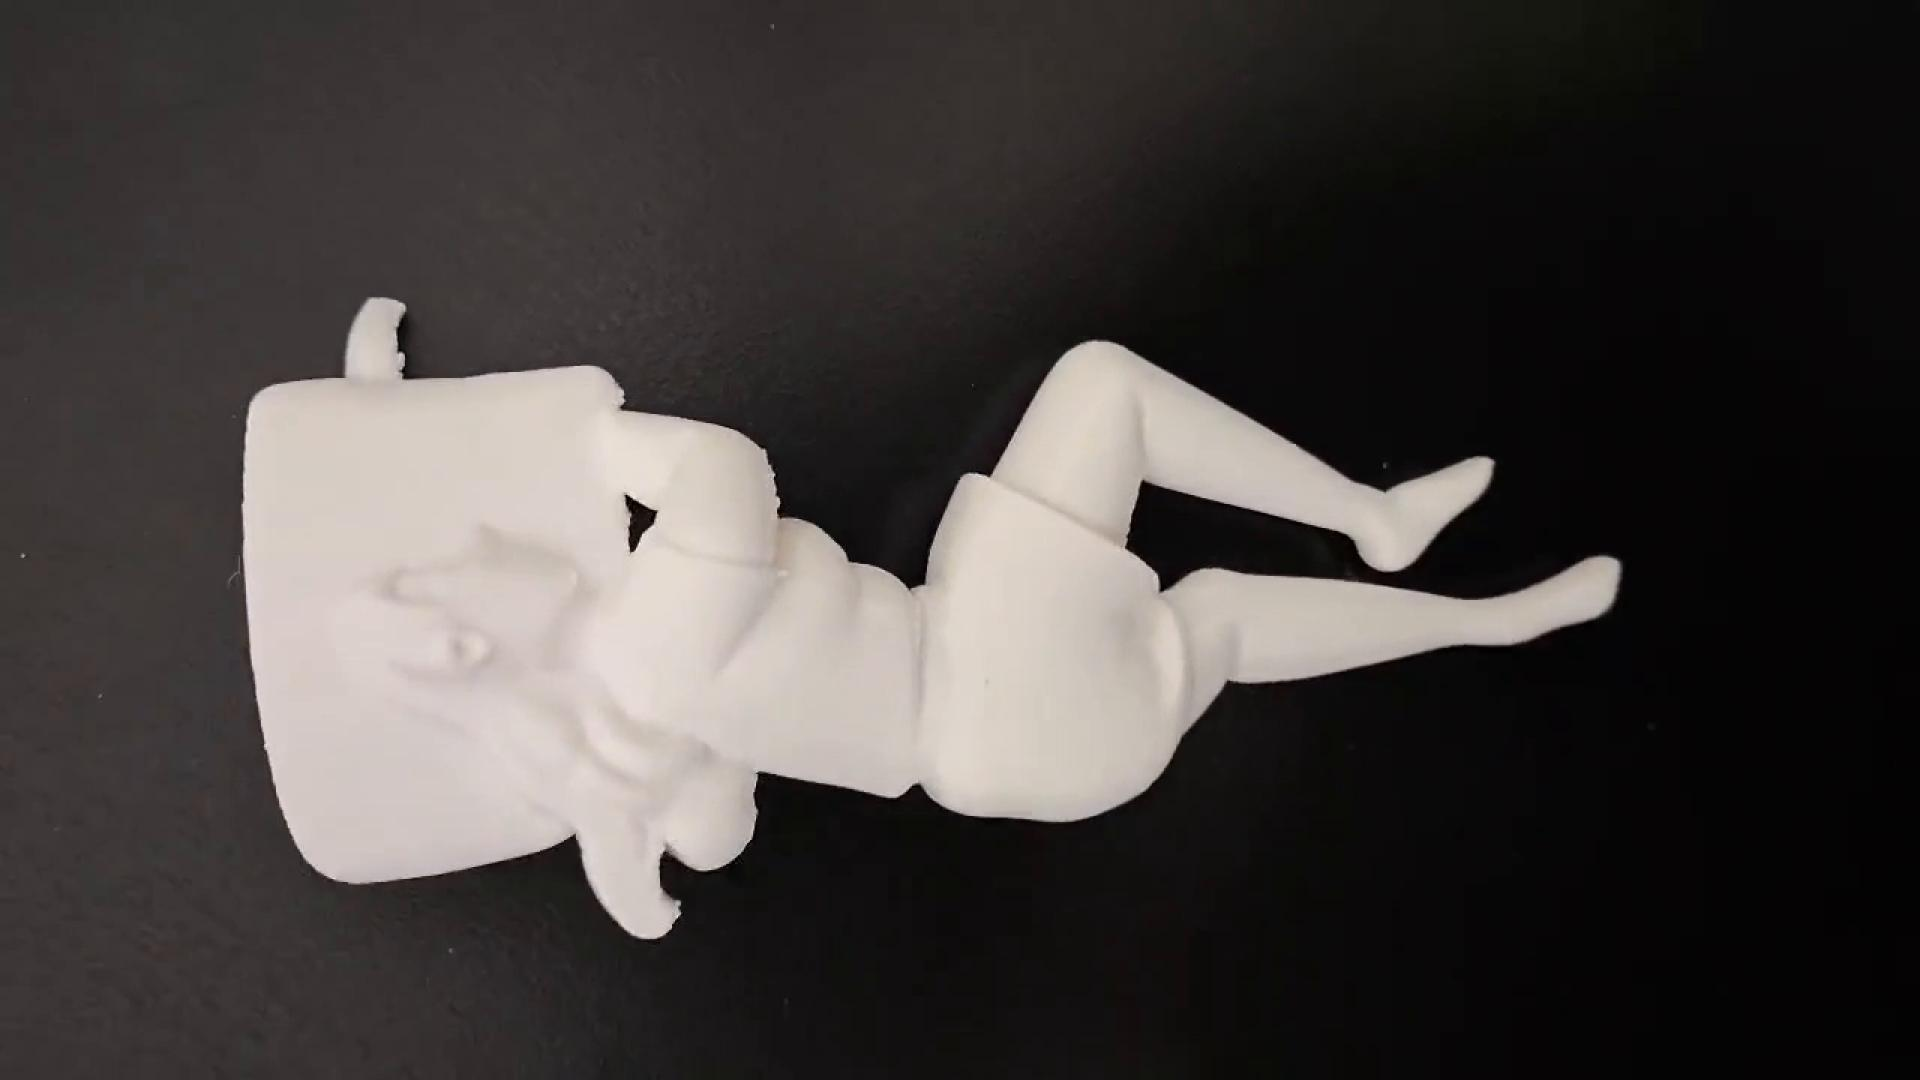Good-style: (237, 301, 1625, 939)
